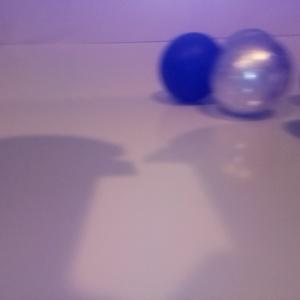alive_ball: (211, 38, 291, 116), (220, 27, 280, 88)
dead_ball: (158, 30, 225, 102)
